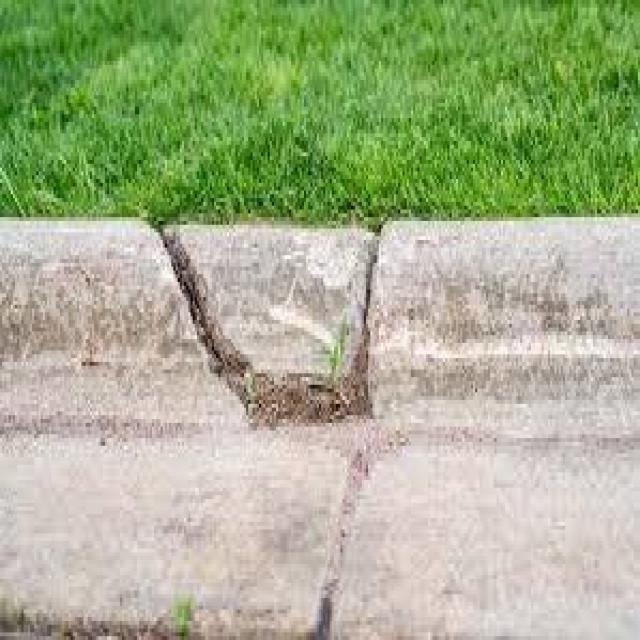curb: (1, 217, 638, 433)
